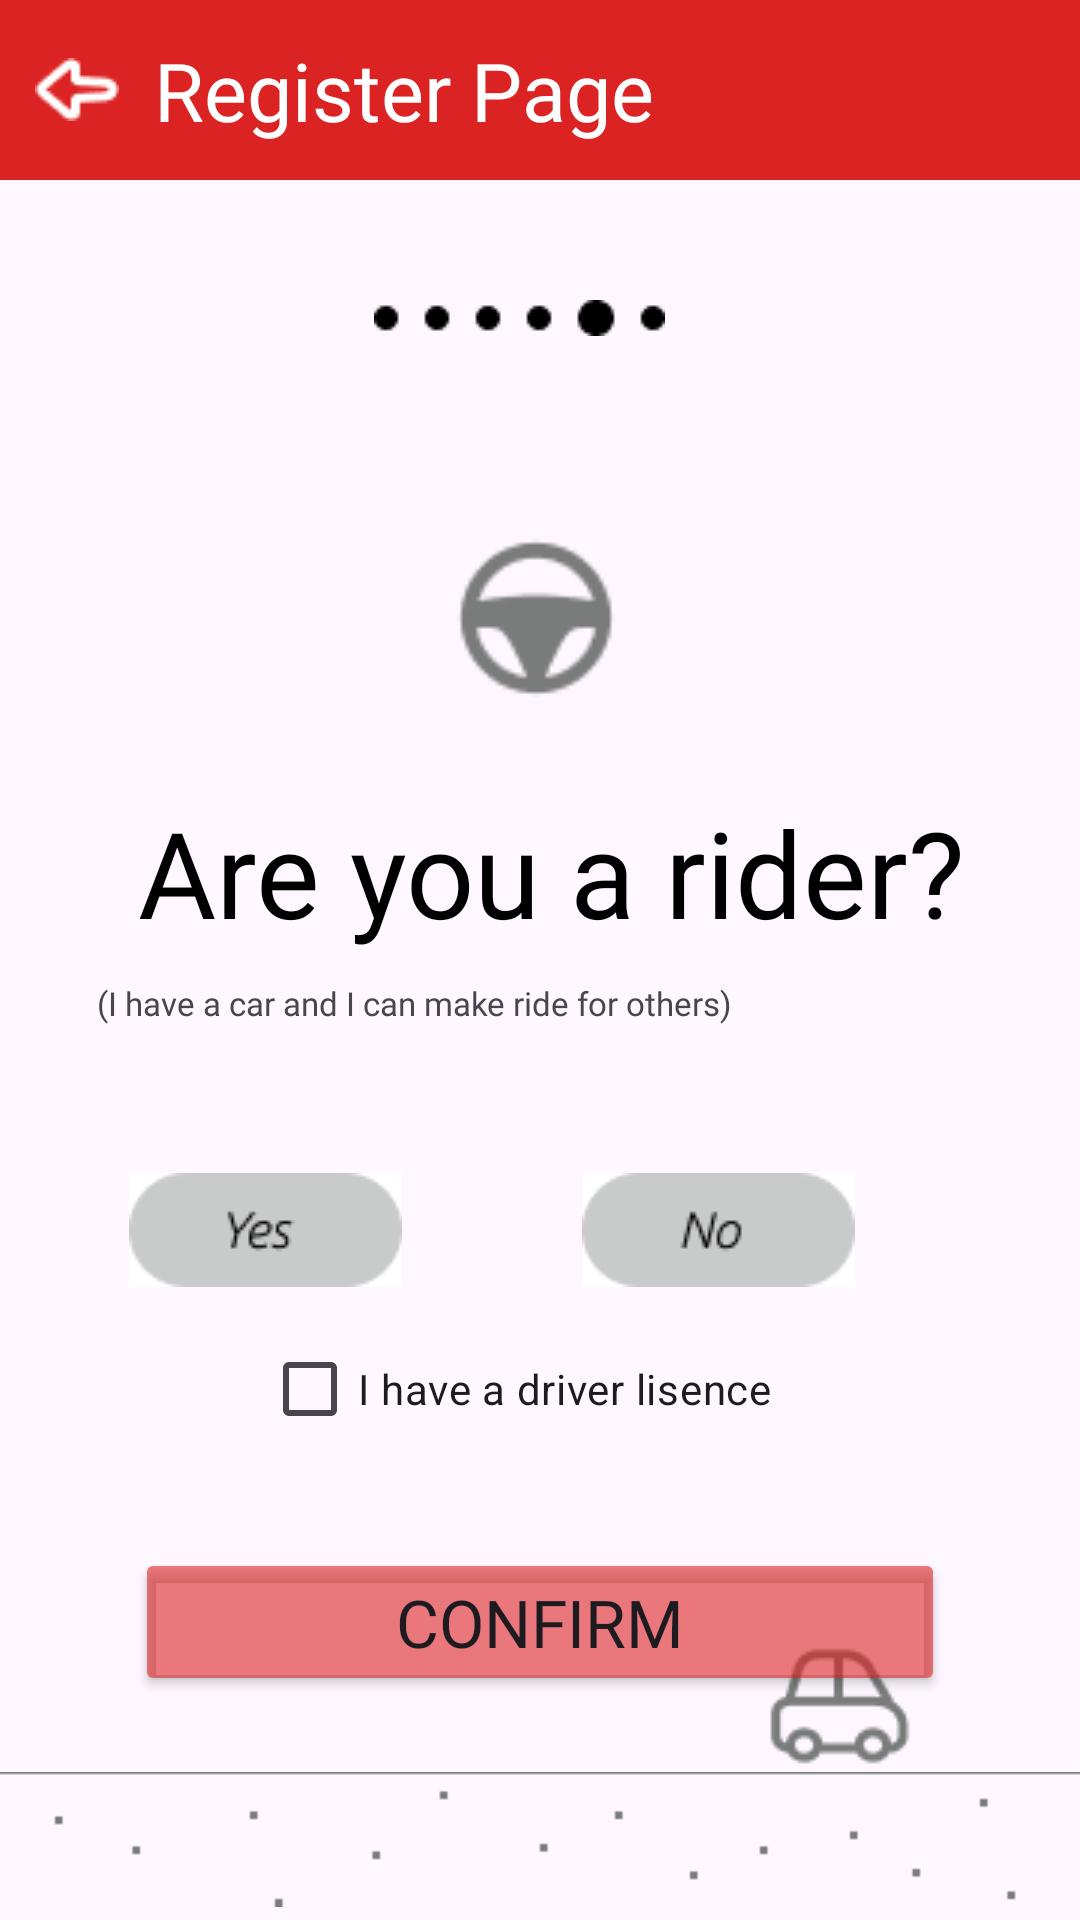

Icons on this 1080 x 1920 Android screen, each with the point to tap as (x=x, y=y):
car: (x=838, y=1706)
